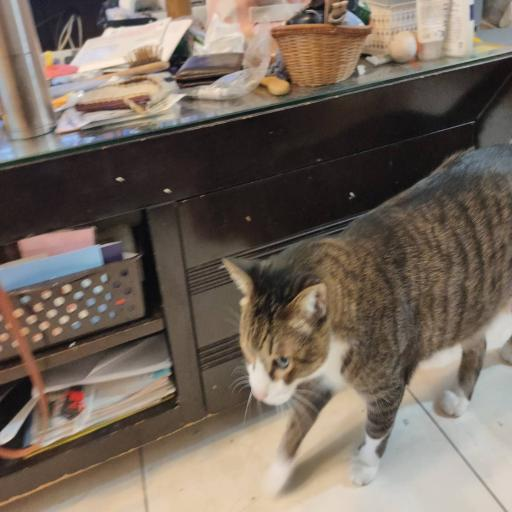cat: (222, 154, 510, 484)
